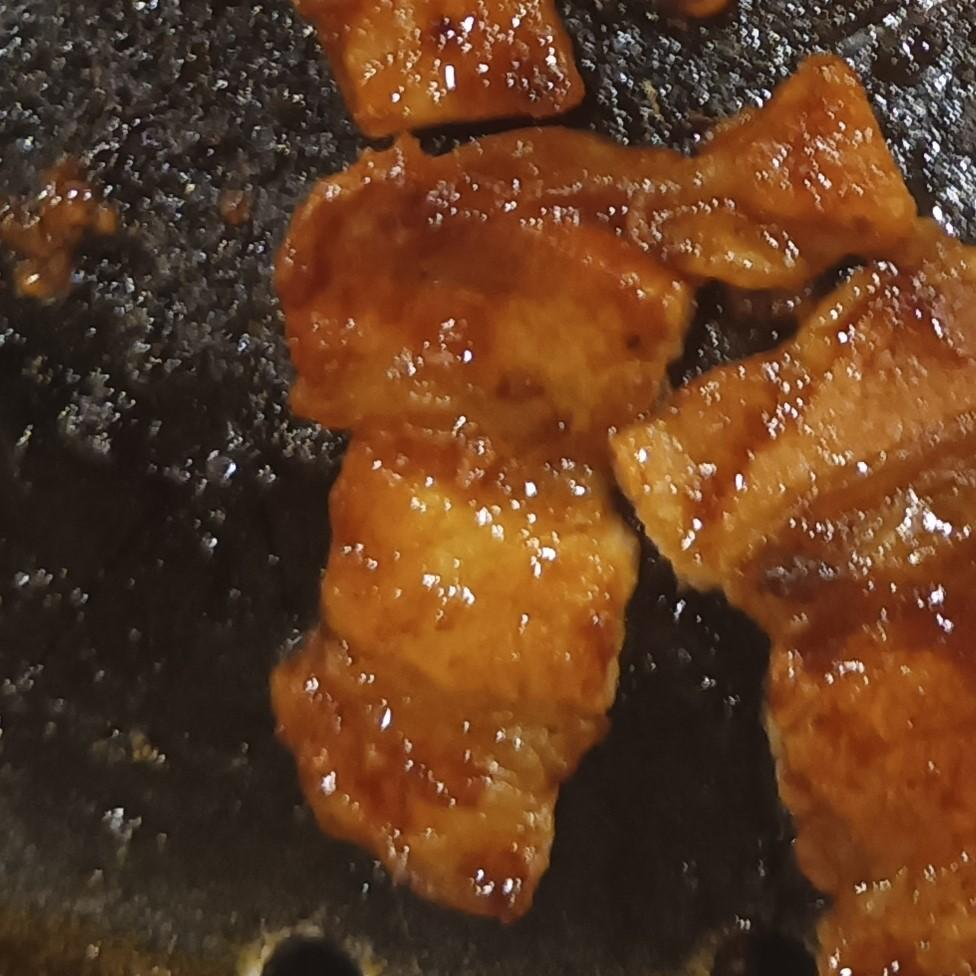Well-Cooked: (271, 0, 975, 975)
